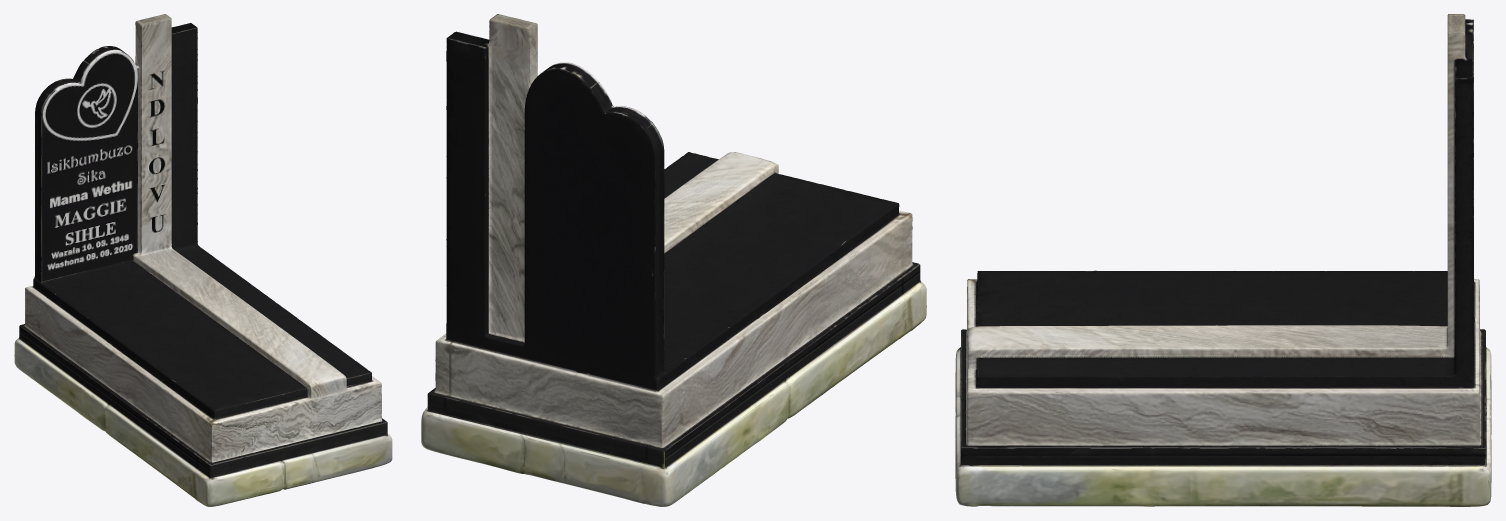
3 views of the same model, side by side, from view 1: azimuth 30°, elevation 25°; view 2: azimuth 150°, elevation 25°; view 3: azimuth 270°, elevation 25° (orthographic). The views are drawn at different scales.
Visible parts, largest first — view 1: Mesh_0; view 2: Mesh_0; view 3: Mesh_0.
Boxes of the visible parts, box(x1,y1,x2,y2) form: Mesh_0: box(14, 14, 392, 506); Mesh_0: box(421, 14, 926, 506); Mesh_0: box(955, 14, 1491, 506).
Size of the model in its own units: 1.05 by 1.75 by 1.91.
1 material, 1 textured.
